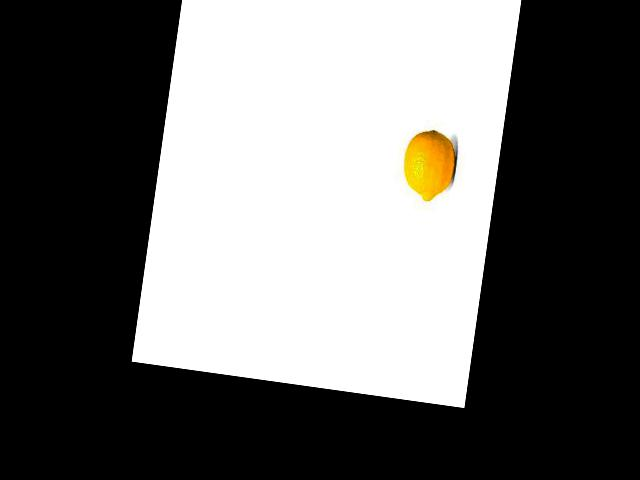lemon: (397, 123, 460, 207)
